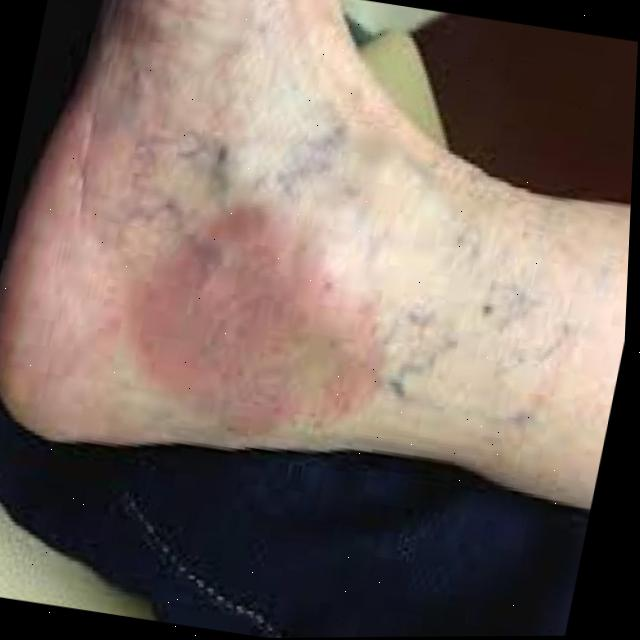Eczema: (132, 168, 445, 455)
